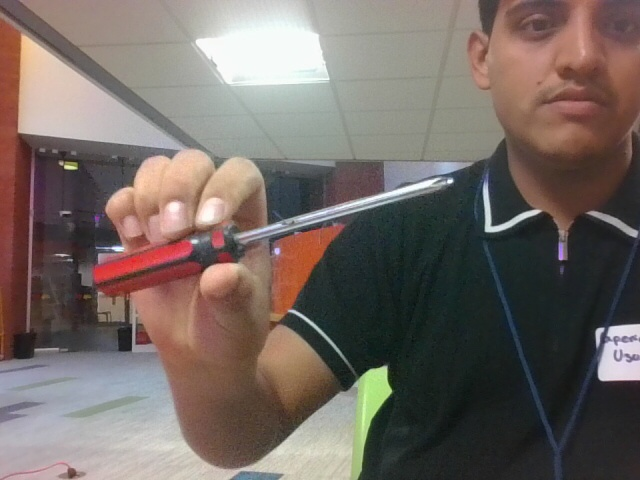destornillador: (95, 177, 454, 297)
